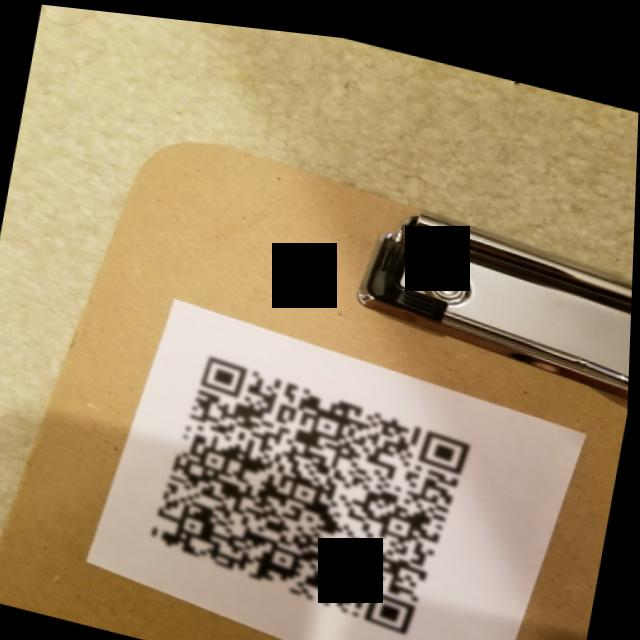QR_CODE: (139, 331, 486, 640)
